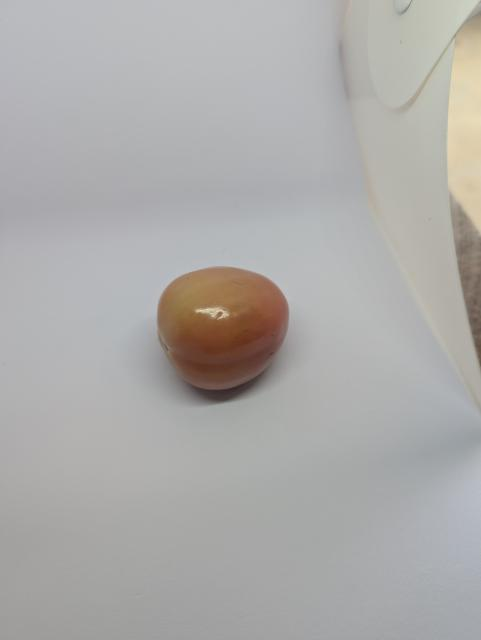turning: (153, 261, 295, 400)
